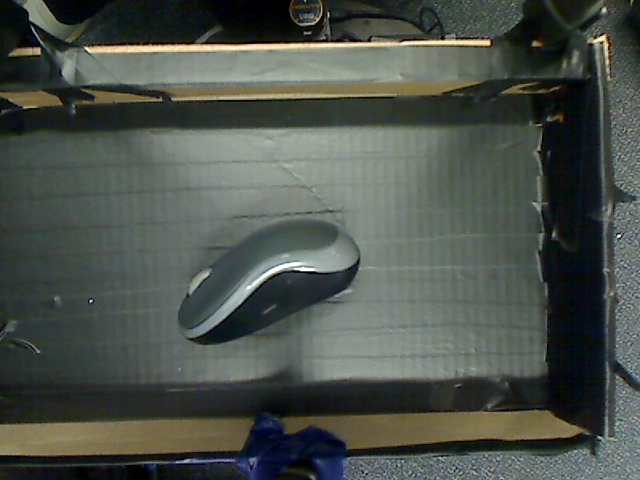mouse: (161, 198, 380, 369)
